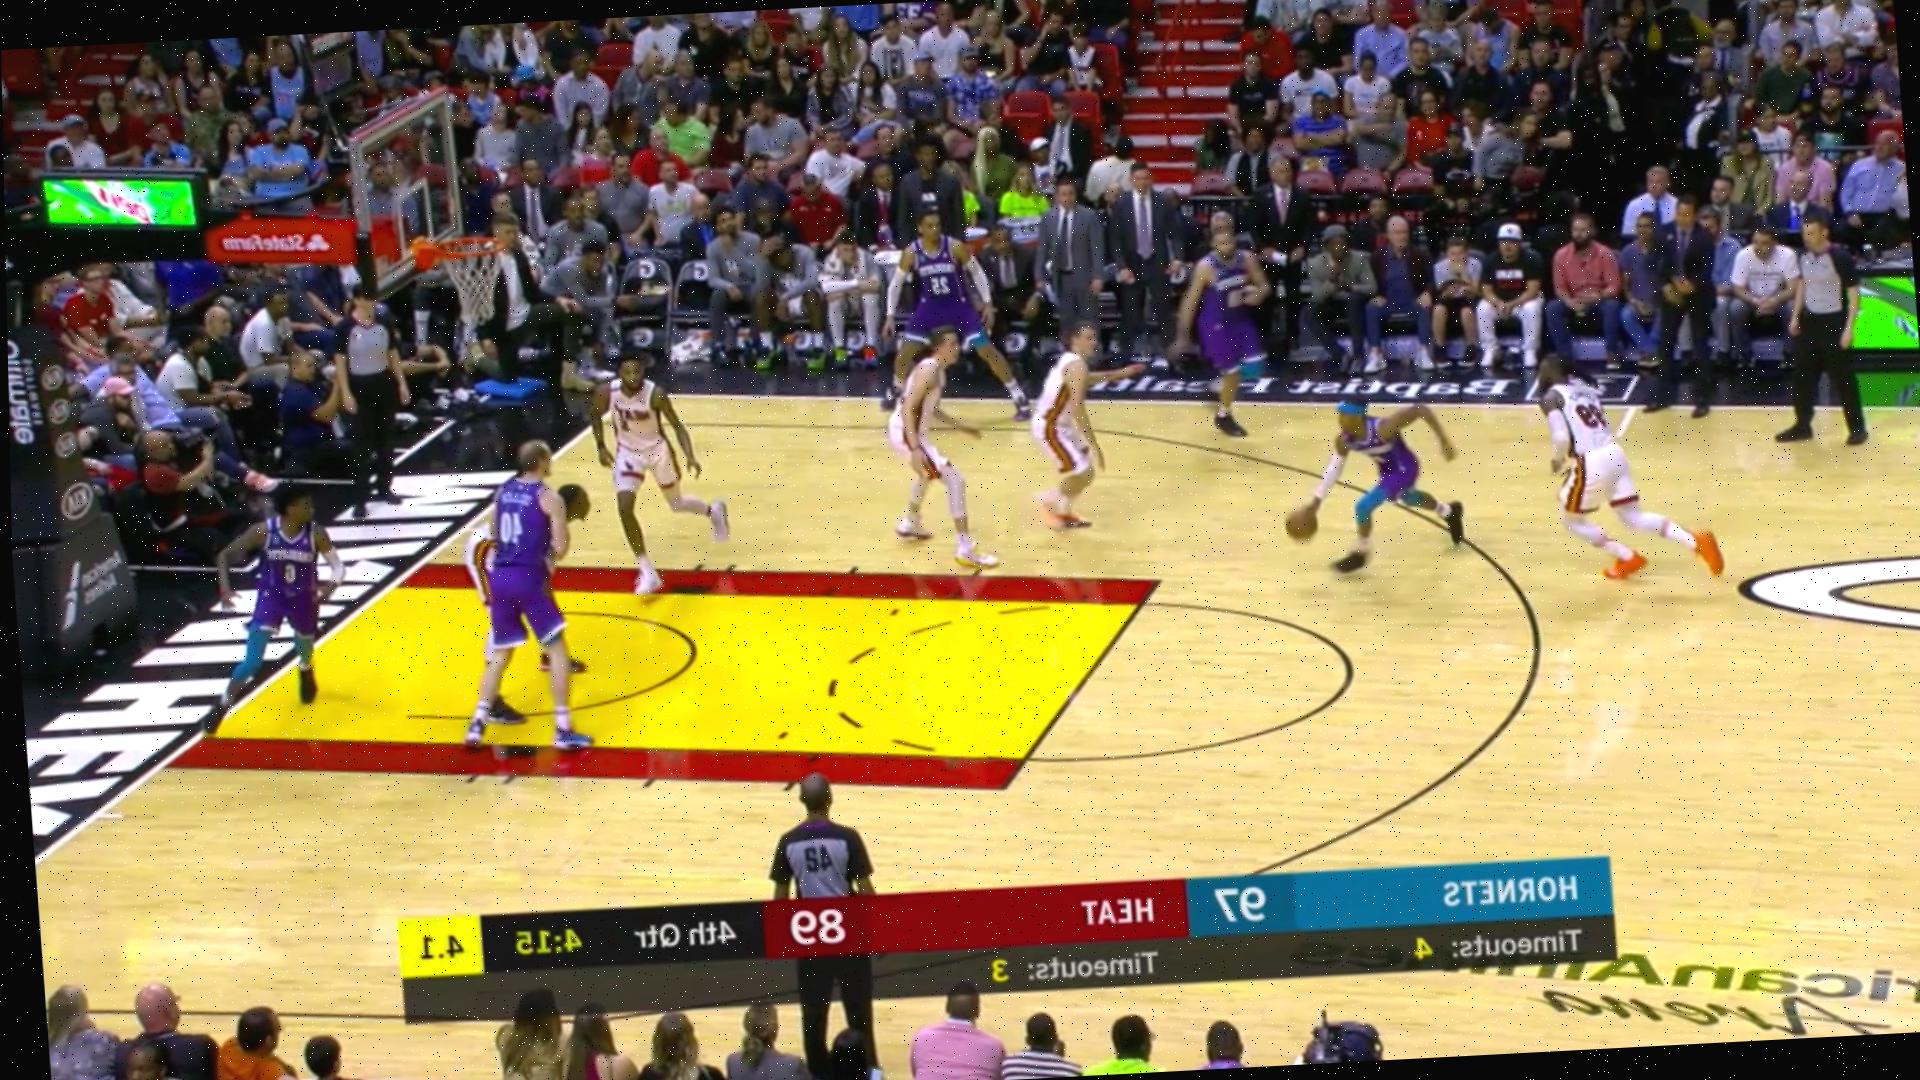no_foul: (447, 433, 611, 752)
